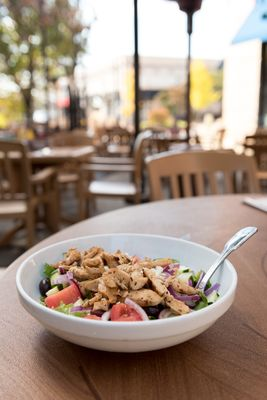salad: (195, 226, 257, 294)
sushi: (14, 231, 240, 352)
